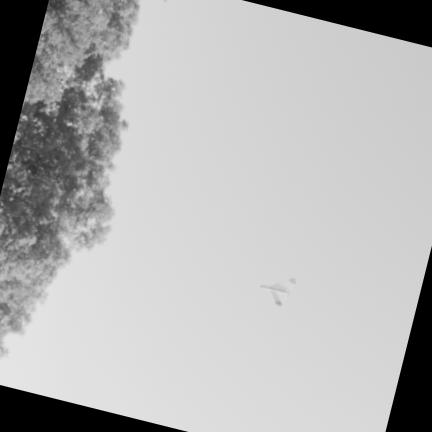Shahed: (259, 278, 294, 305)
